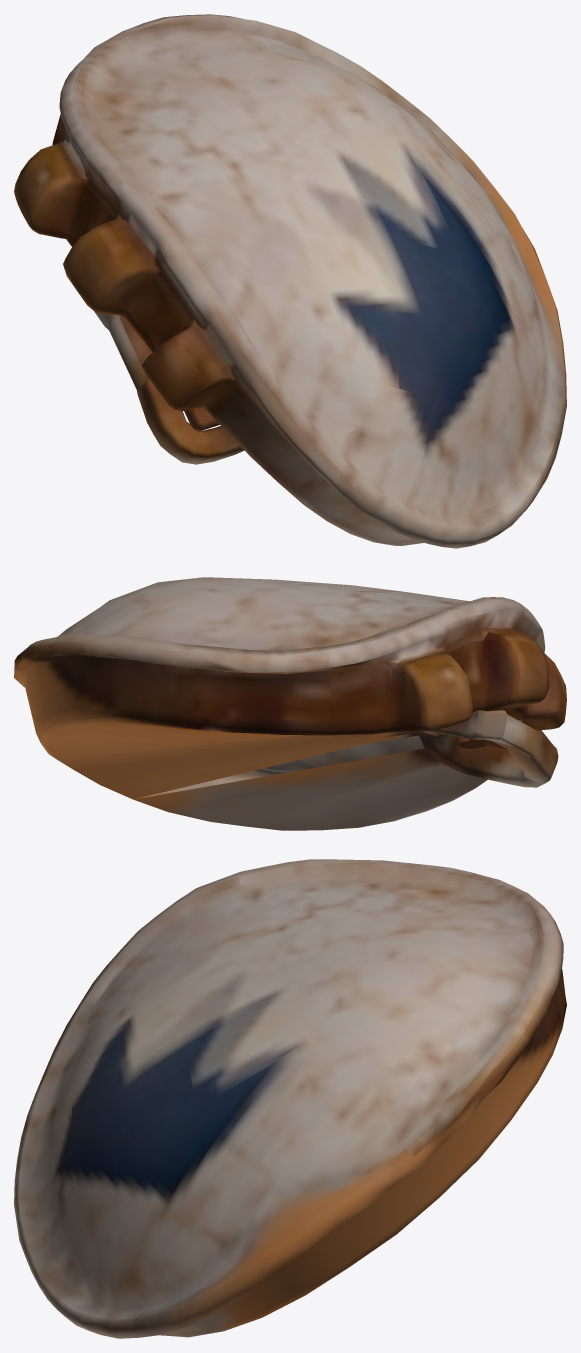
File: sir_bonk_lid.fbx
The picture shows the model from 3 angles, top to bottom: view 1: azimuth 30°, elevation 25°; view 2: azimuth 150°, elevation 25°; view 3: azimuth 270°, elevation 25°; orthographic projection. The views are drawn at different scales.
Visible parts, largest first — view 1: SirBonk_Lid; view 2: SirBonk_Lid; view 3: SirBonk_Lid.
Boxes of the visible parts, x1,y1,x2,y2 form: SirBonk_Lid: (14, 14, 566, 548); SirBonk_Lid: (14, 577, 566, 830); SirBonk_Lid: (14, 859, 566, 1338).
Bounding box in the file's own units: 11.06 × 8.08 × 11.31.
